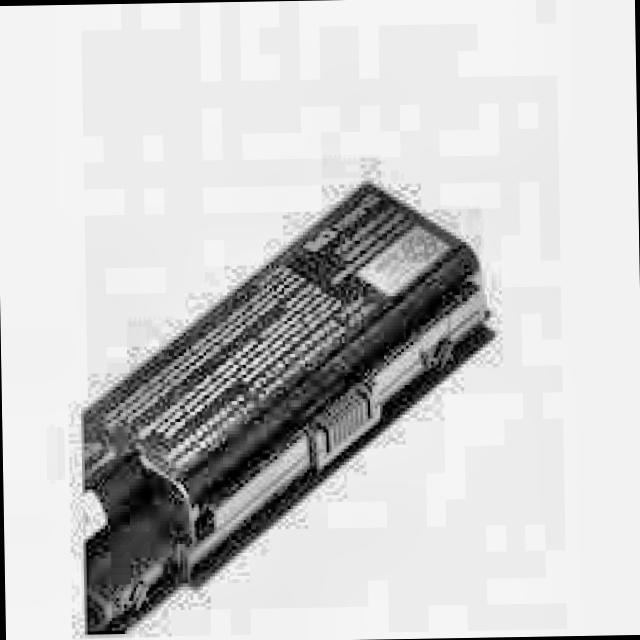Battery: (71, 178, 489, 640)
